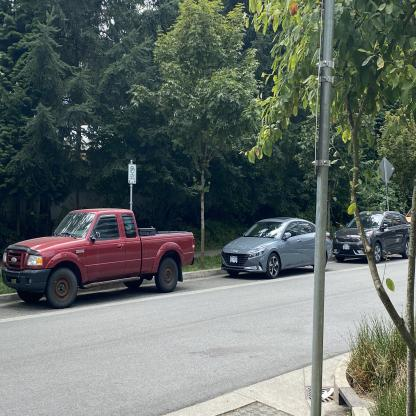License-Plate: (226, 251, 239, 267), (341, 242, 352, 255)
